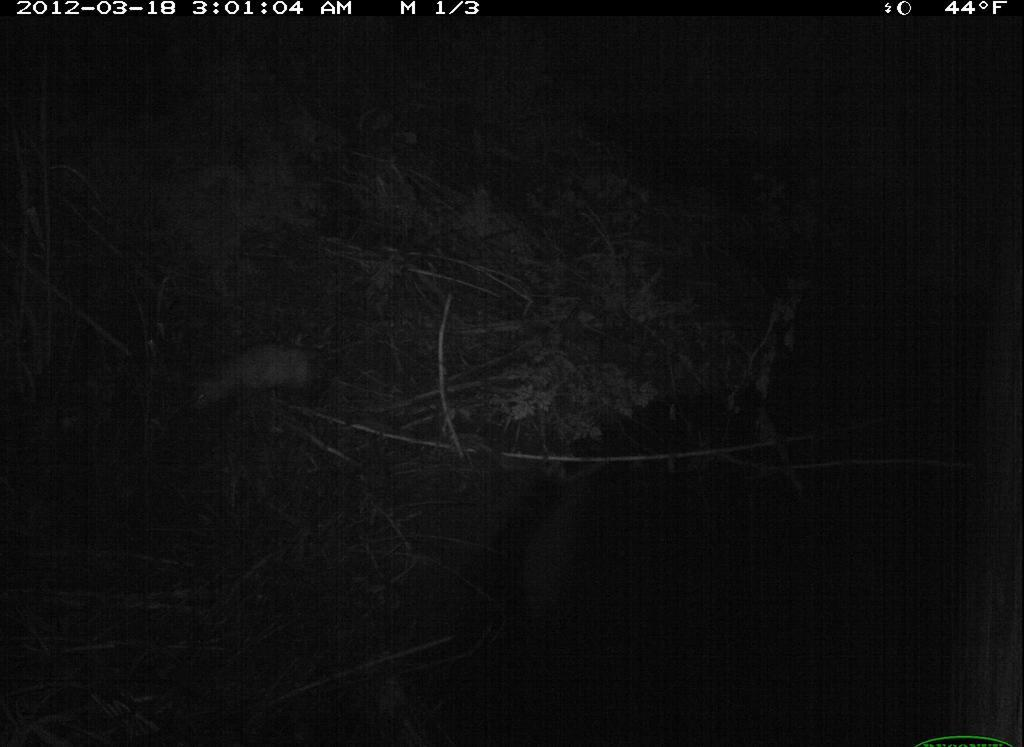opossum: (186, 333, 355, 413)
